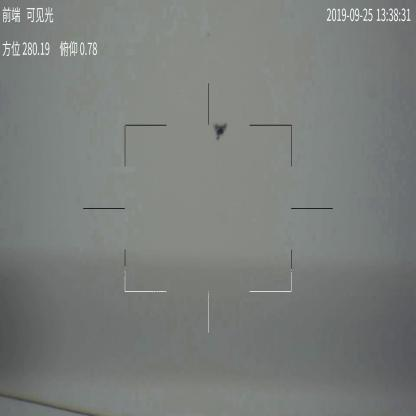uav: (213, 119, 229, 141)
